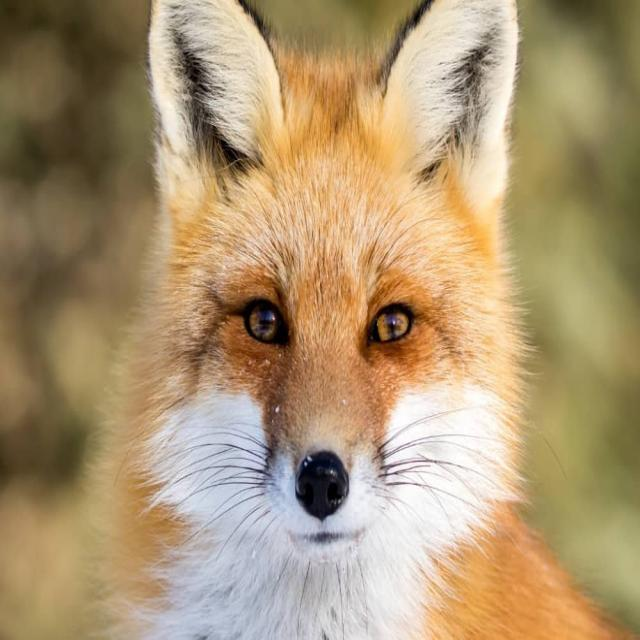fox: (75, 0, 634, 638)
